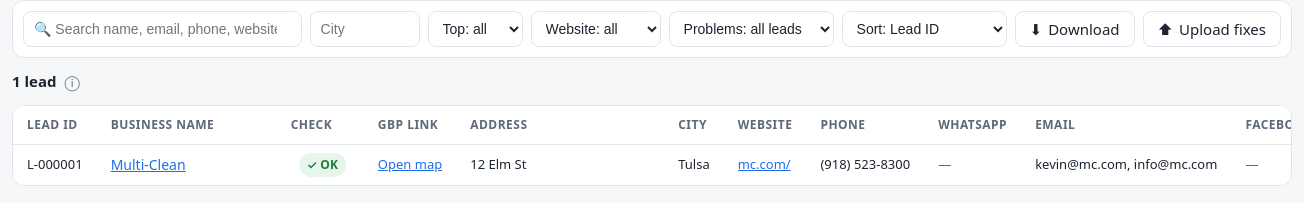
Scenario: sorting by an agent's score
This screenshot has width=1304, height=203.
Expected: the button "Multi-Clean" is shown, [111,154,186,175]
Select "Sort: Demo score (best first)" in the 4th dropdown named "Sort by" at (924, 29), box [842,11,1007,47]
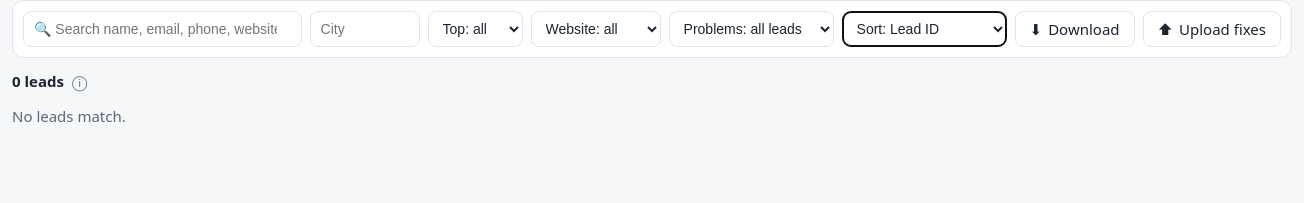
Expected: the text "No leads match." is shown, [12,106,126,126]
